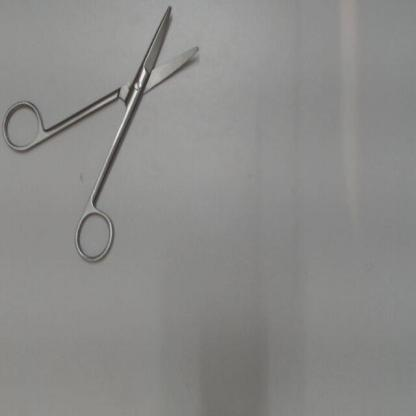Curved Mayo Scissors: (0, 1, 206, 268)
